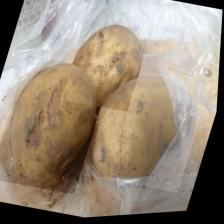Potato: (82, 62, 213, 200), (0, 51, 113, 200), (62, 16, 153, 118)
